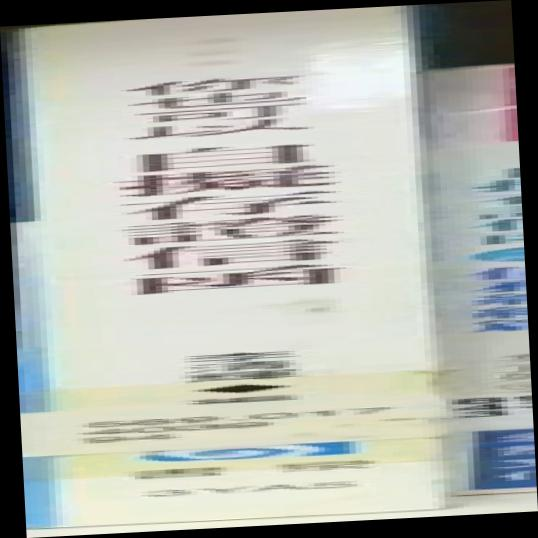book: (1, 1, 533, 538)
